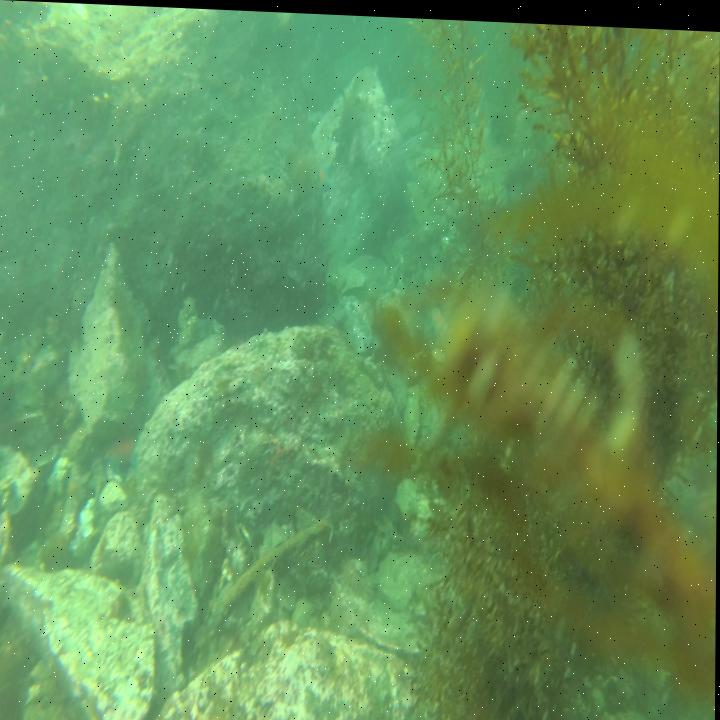starfish: (102, 420, 143, 474), (427, 295, 453, 351), (313, 147, 333, 190)
